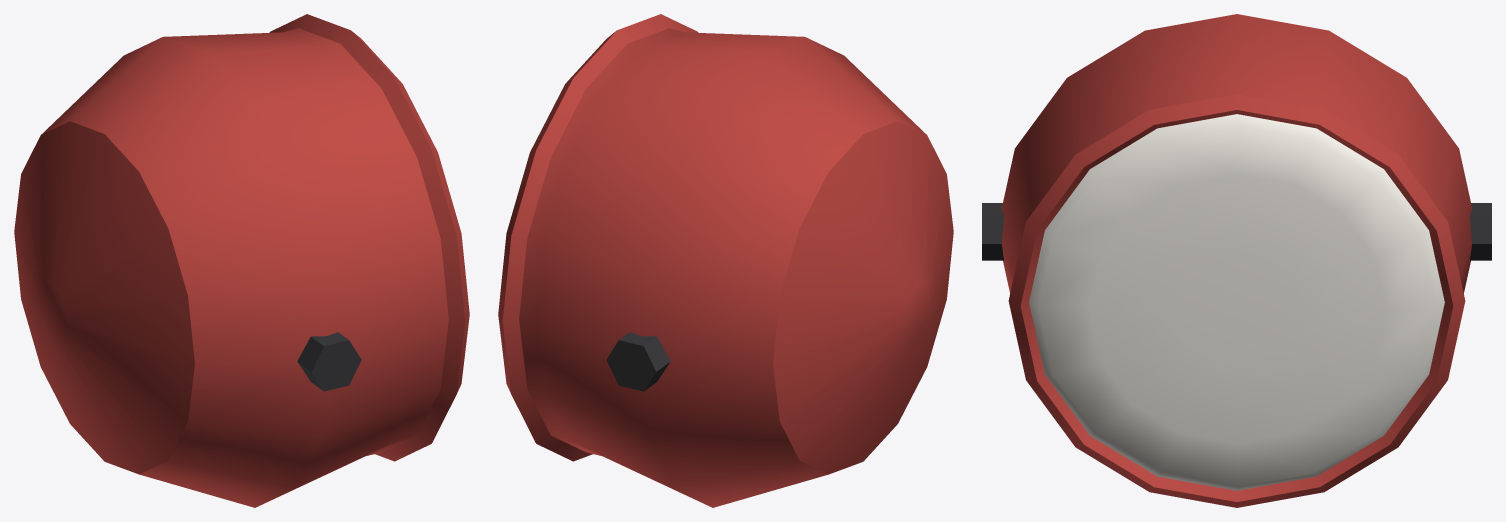
Rendered from round_lod1.glb.
The picture shows the model from 3 angles, left to right: view 1: azimuth 30°, elevation 25°; view 2: azimuth 150°, elevation 25°; view 3: azimuth 270°, elevation 25°; orthographic projection.
Parts seen in each view (by area): view 1: round_lod1; view 2: round_lod1; view 3: round_lod1.
Boxes of the visible parts, x1,y1,x2,y2 form: round_lod1: (14, 14, 469, 507); round_lod1: (498, 14, 953, 507); round_lod1: (982, 14, 1491, 507).
Bounding box in the file's own units: 1.52 × 2 × 2.12.
